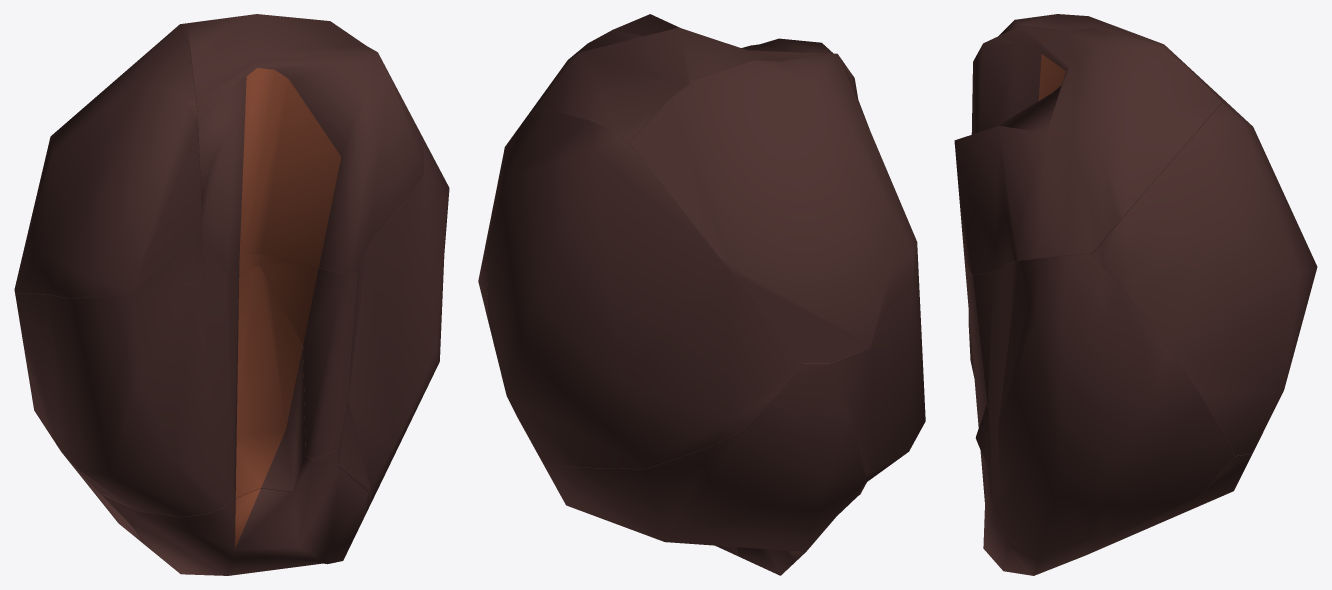
File: CoffeeBean_Destruct_7.fbx
3 views of the same model, side by side, from view 1: azimuth 30°, elevation 25°; view 2: azimuth 150°, elevation 25°; view 3: azimuth 270°, elevation 25° (orthographic). The views are drawn at different scales.
Visible parts, largest first — view 1: Icosphere.008_cell.006, Icosphere.008_cell, Icosphere.008_cell.003, Icosphere.008_cell.005, Icosphere.008_cell.001, Icosphere.008_cell.004; view 2: Icosphere.008_cell.002, Icosphere.008_cell.003, Icosphere.008_cell.004, Icosphere.008_cell, Icosphere.008_cell.006, Icosphere.008_cell.001; view 3: Icosphere.008_cell.005, Icosphere.008_cell, Icosphere.008_cell.002, Icosphere.008_cell.004, Icosphere.008_cell.003, Icosphere.008_cell.001, Icosphere.008_cell.006.
Boxes of the visible parts, left/top/right/bottom form: Icosphere.008_cell.006: left=15, top=253, right=357, bottom=517; Icosphere.008_cell: left=186, top=14, right=424, bottom=277; Icosphere.008_cell.003: left=14, top=23, right=203, bottom=298; Icosphere.008_cell.005: left=348, top=136, right=449, bottom=503; Icosphere.008_cell.001: left=103, top=450, right=368, bottom=575; Icosphere.008_cell.004: left=24, top=265, right=370, bottom=544; Icosphere.008_cell.002: left=486, top=108, right=803, bottom=469; Icosphere.008_cell.003: left=629, top=53, right=917, bottom=363; Icosphere.008_cell.004: left=536, top=355, right=865, bottom=561; Icosphere.008_cell: left=529, top=14, right=857, bottom=154; Icosphere.008_cell.006: left=830, top=259, right=925, bottom=494; Icosphere.008_cell.001: left=736, top=483, right=866, bottom=575; Icosphere.008_cell.005: left=973, top=254, right=1234, bottom=560; Icosphere.008_cell: left=954, top=25, right=1222, bottom=275; Icosphere.008_cell.002: left=1092, top=102, right=1317, bottom=455; Icosphere.008_cell.004: left=976, top=404, right=1252, bottom=575; Icosphere.008_cell.003: left=971, top=14, right=1254, bottom=133; Icosphere.008_cell.001: left=976, top=439, right=1029, bottom=575; Icosphere.008_cell.006: left=964, top=263, right=986, bottom=436.
Size of the model in its own units: 299 by 389 by 246.
